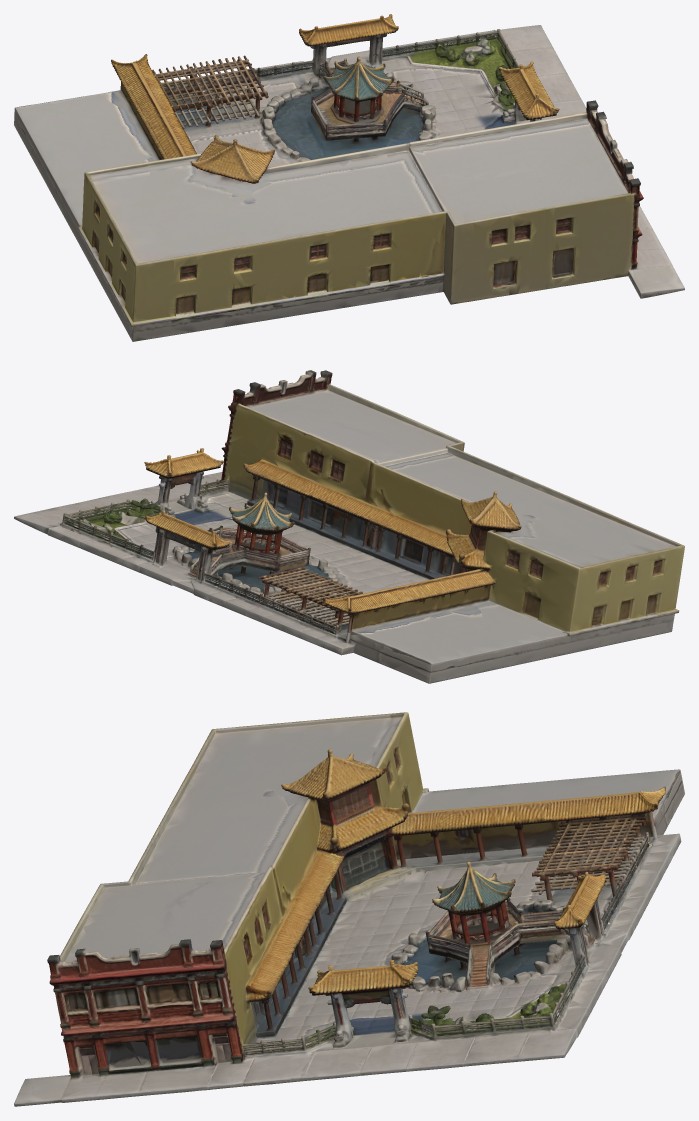
3 views of the same model, one above another, from view 1: azimuth 30°, elevation 25°; view 2: azimuth 150°, elevation 25°; view 3: azimuth 270°, elevation 25° (orthographic). The views are drawn at different scales.
Parts seen in each view (by area): view 1: tripo_node_eac1ae08-f905-4bf0-b00f-0ed69ae0b993; view 2: tripo_node_eac1ae08-f905-4bf0-b00f-0ed69ae0b993; view 3: tripo_node_eac1ae08-f905-4bf0-b00f-0ed69ae0b993.
Part boxes in pixels (x1,y1,x2,y2): tripo_node_eac1ae08-f905-4bf0-b00f-0ed69ae0b993: [14, 14, 684, 341]; tripo_node_eac1ae08-f905-4bf0-b00f-0ed69ae0b993: [14, 370, 684, 683]; tripo_node_eac1ae08-f905-4bf0-b00f-0ed69ae0b993: [14, 712, 684, 1106].
Size of the model in its own units: 0.9964 by 0.2413 by 0.8612.
Materials: 1 (1 with a texture image).
